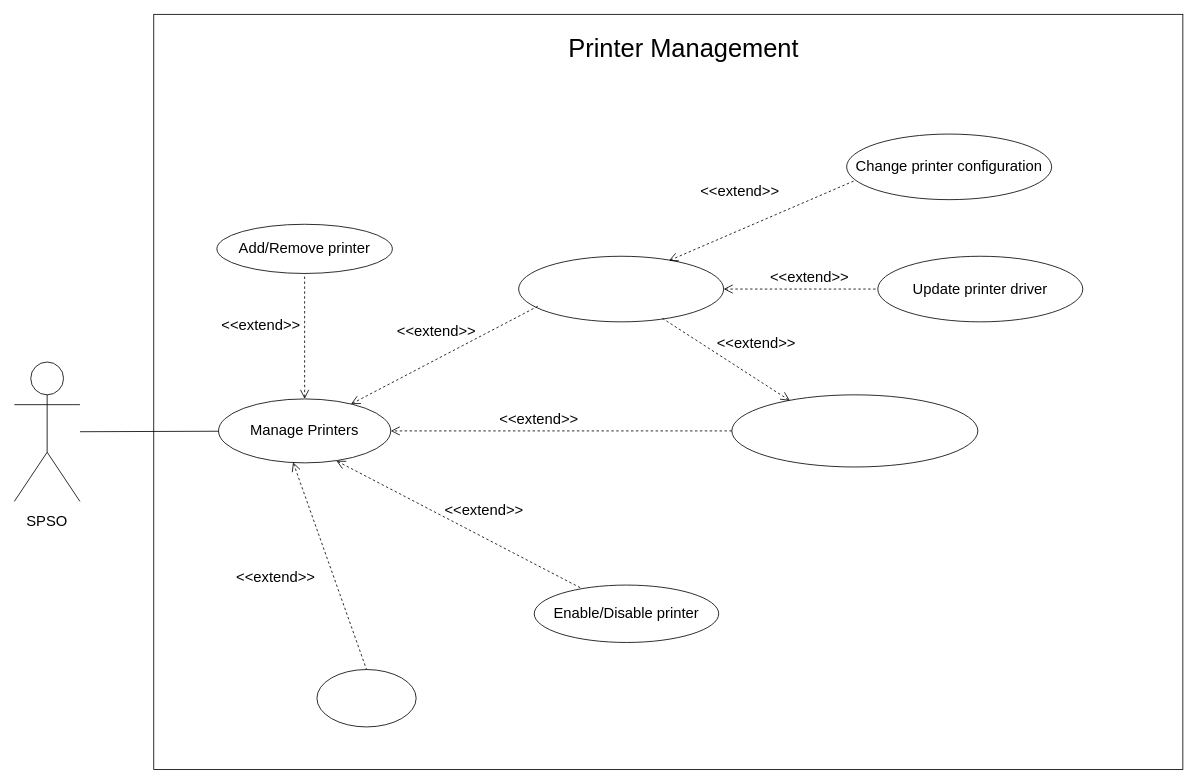
The diagram is 1197 pixels wide and 784 high, and some of its shapes have lost their labels. The shapes that lost their labels are listed below. From the top down, each one's box as (x1, y1, x2, y2) in pixels, then its label:
(518, 255, 724, 322): Update printer information
(731, 394, 978, 467): Display printers inforamtion
(316, 669, 416, 727): View logs
